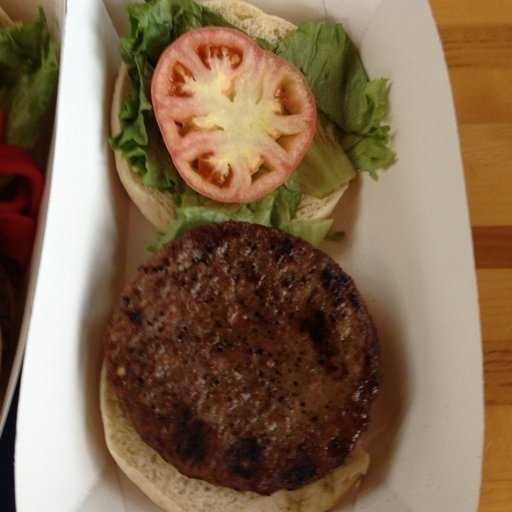hamburger: (83, 215, 396, 492)
